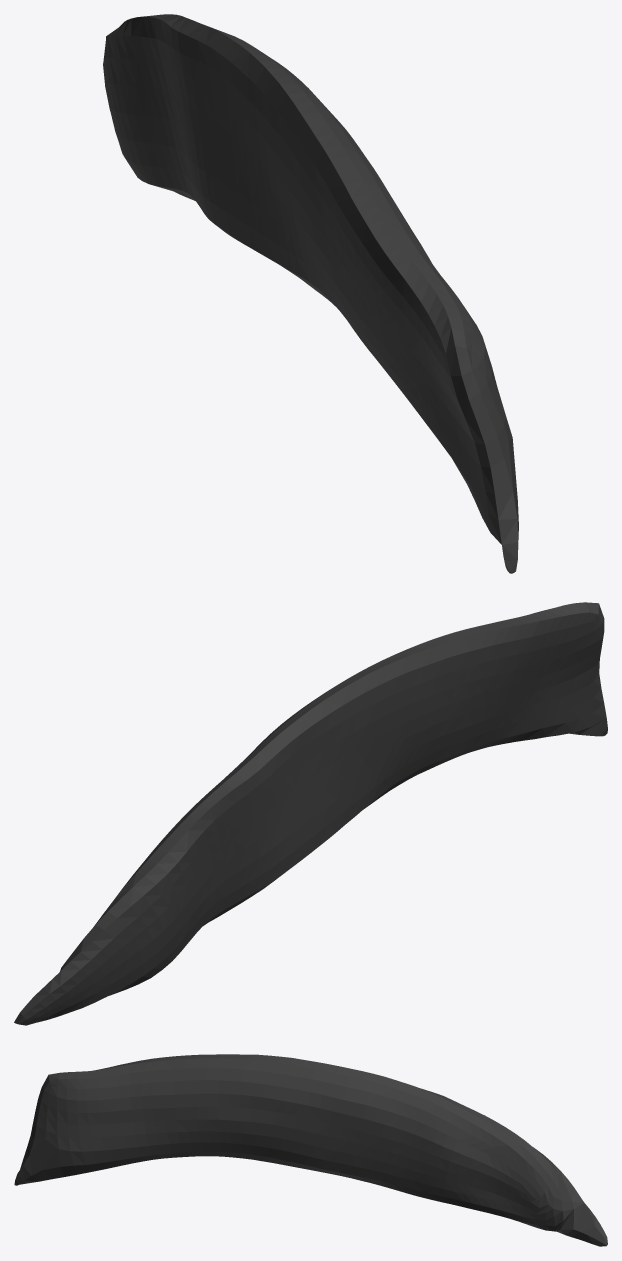
File: lev_lab_sup.glb
3 renders of one model, top to bottom at view 1: azimuth 30°, elevation 25°; view 2: azimuth 150°, elevation 25°; view 3: azimuth 270°, elevation 25°, orthographic. The views are drawn at different scales.
Parts seen in each view (by area): view 1: lev_lab_sup; view 2: lev_lab_sup; view 3: lev_lab_sup.
Boxes of the visible parts, bbox=[...] form: lev_lab_sup: bbox=[103, 14, 518, 573]; lev_lab_sup: bbox=[14, 602, 607, 1025]; lev_lab_sup: bbox=[14, 1054, 607, 1246].
Bounding box in the file's own units: 0.1592 × 0.1829 × 0.6635.
1 material, 1 textured.
